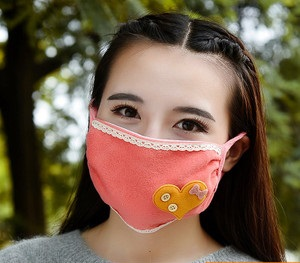face_mask: (86, 45, 224, 233)
